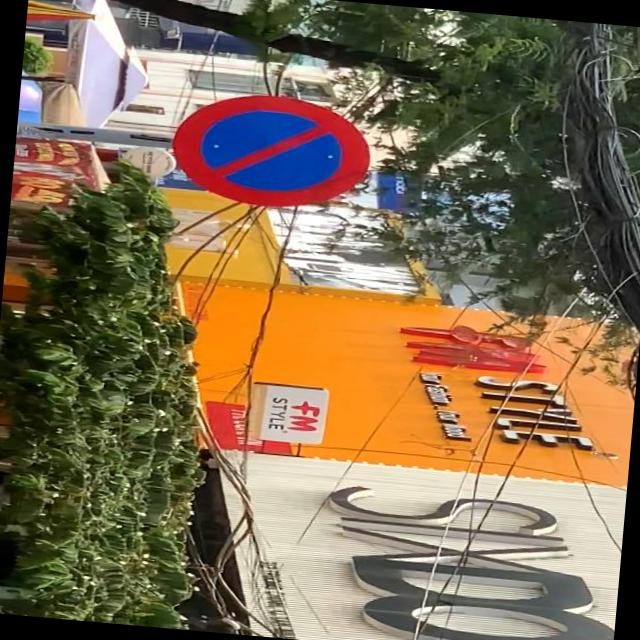P-131a: (168, 85, 374, 213)
